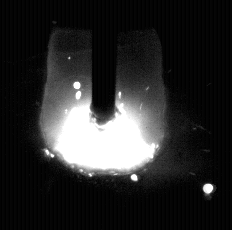arame: (92, 0, 117, 126)
poca: (39, 0, 168, 230)
